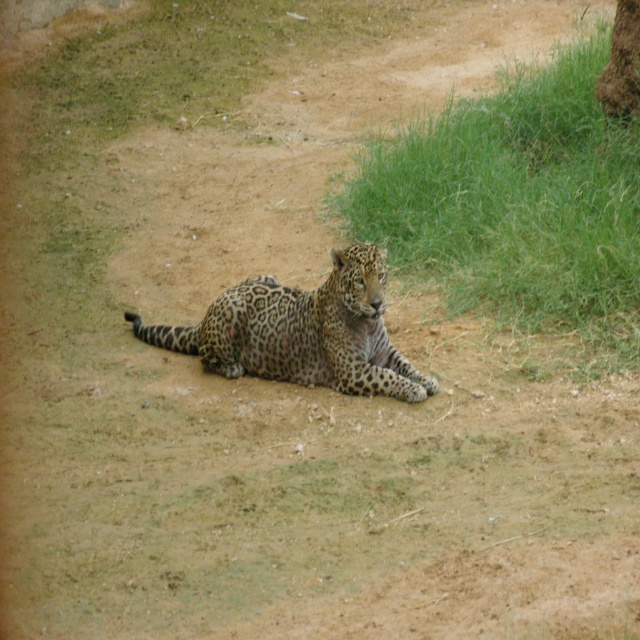Jaguar: (123, 243, 440, 406)
